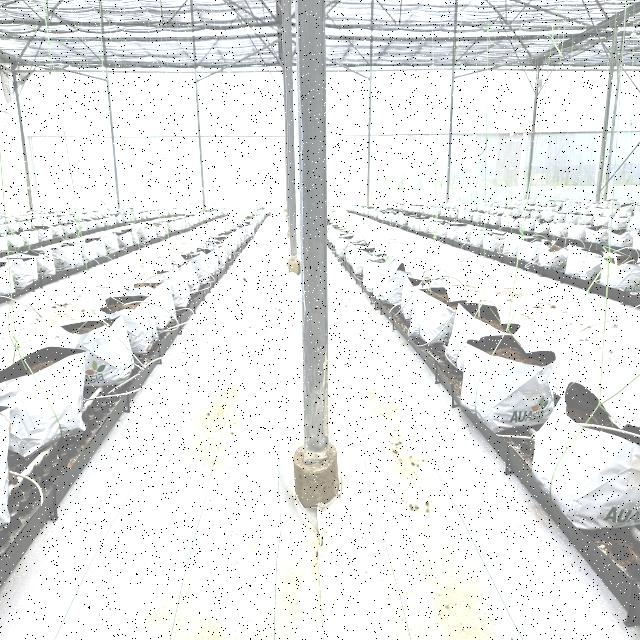Obstacle: (275, 0, 338, 512)
Soilbag: (532, 382, 640, 531), (0, 348, 86, 459)
